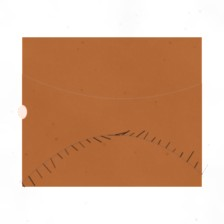pinguecula_lesion: (37, 89, 71, 116)
